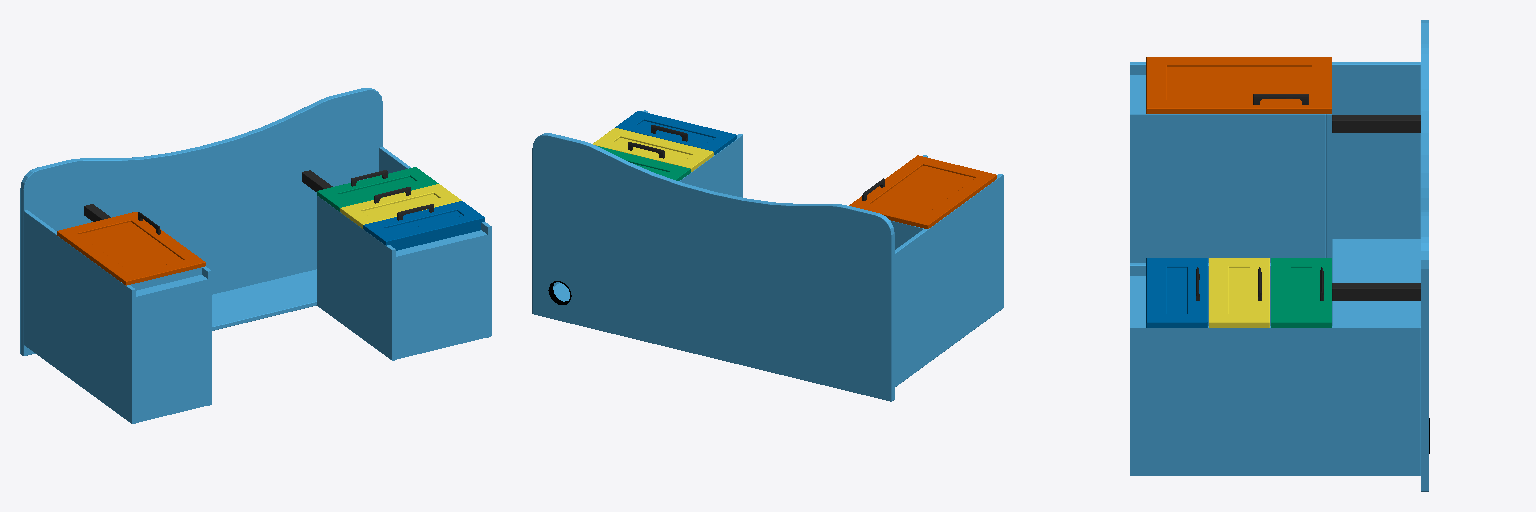
robot.urdf — s__1222:
<robot name="s__1222">


	<link name="0:virtual">
		<visual>
			<origin xyz="0.0 0.0 0.0" rpy="0 0 0"/>
			<geometry>
				<cylinder length="0" radius="0"/>
			</geometry>
		</visual>
	</link>


	<link name="1:static">
		<visual>
			<origin xyz="-0.0 -0.0 -0.0" rpy="0 0 0"/>
			<geometry>
				<mesh filename="../raw_data/s__1222/part_meshes/1.dae" />
			</geometry>
		</visual>
	</link>


	<link name="2:drawer 1">
		<visual>
			<origin xyz="-0.521000012755394 -0.44425299763679504 0.08452750742435455" rpy="0 0 0"/>
			<geometry>
				<mesh filename="../raw_data/s__1222/part_meshes/2.dae" />
			</geometry>
		</visual>
	</link>


	<link name="3:drawer 2">
		<visual>
			<origin xyz="-0.521000012755394 -0.28316449373960495 0.08452750742435455" rpy="0 0 0"/>
			<geometry>
				<mesh filename="../raw_data/s__1222/part_meshes/3.dae" />
			</geometry>
		</visual>
	</link>


	<link name="4:drawer 3">
		<visual>
			<origin xyz="-0.521000012755394 -0.12207619845867157 0.08452750742435455" rpy="0 0 0"/>
			<geometry>
				<mesh filename="../raw_data/s__1222/part_meshes/4.dae" />
			</geometry>
		</visual>
	</link>


	<link name="5:cabinet door 1">
		<visual>
			<origin xyz="0.7200000286102295 -0.28316464461386204 -0.21668200194835663" rpy="0 0 0"/>
			<geometry>
				<mesh filename="../raw_data/s__1222/part_meshes/5.dae" />
			</geometry>
		</visual>
	</link>


	<joint name="0:virtual::1:static" type="fixed">
		<parent link="0:virtual"/>
		<child link="1:static"/>
		<origin xyz="0.0 0.0 0.0" rpy="0 0 0"/>
	</joint>


	<joint name="0:virtual::2:drawer 1_translation" type="prismatic">
		<parent link="0:virtual"/>
		<child link="2:drawer 1"/>
		<origin xyz="0.521000012755394 0.44425299763679504 -0.08452750742435455" rpy="0 0 0"/>
		<limit lower="-0.0001124999821186" upper="0.348887500017881" effort="10" velocity="3"/>
		<axis xyz="0.0 0.0 1.0"/>
	</joint>


	<joint name="0:virtual::3:drawer 2_translation" type="prismatic">
		<parent link="0:virtual"/>
		<child link="3:drawer 2"/>
		<origin xyz="0.521000012755394 0.28316449373960495 -0.08452750742435455" rpy="0 0 0"/>
		<limit lower="-0.0001124999821186" upper="0.348887500017881" effort="10" velocity="3"/>
		<axis xyz="0.0 0.0 1.0"/>
	</joint>


	<joint name="0:virtual::4:drawer 3_translation" type="prismatic">
		<parent link="0:virtual"/>
		<child link="4:drawer 3"/>
		<origin xyz="0.521000012755394 0.12207619845867157 -0.08452750742435455" rpy="0 0 0"/>
		<limit lower="-0.0001124999821186" upper="0.348887500017881" effort="10" velocity="3"/>
		<axis xyz="0.0 0.0 1.0"/>
	</joint>


	<joint name="0:virtual::5:cabinet door 1_rotation" type="revolute">
		<parent link="0:virtual"/>
		<child link="5:cabinet door 1"/>
		<origin xyz="-0.7200000286102295 0.28316464461386204 0.21668200194835663" rpy="0 0 0"/>
		<limit lower="-3.141592653589793" upper="0.0" effort="10" velocity="3"/>
		<axis xyz="0.0 1.0 0.0"/>
	</joint>


</robot>

--- Render facts (derived) ---
3 views of the same robot in one strip: view 1: azimuth 30°, elevation 25°; view 2: azimuth 150°, elevation 25°; view 3: azimuth 270°, elevation 25° (orthographic).
Robot: s__1222 — 6 links, 5 joints (1 revolute, 3 prismatic, 1 fixed); root link 0:virtual; default pose: all joints at 0.
Visible links, largest first — view 1: 1:static, 5:cabinet door 1, 4:drawer 3, 3:drawer 2, 2:drawer 1; view 2: 1:static, 5:cabinet door 1, 4:drawer 3, 3:drawer 2, 2:drawer 1; view 3: 1:static, 5:cabinet door 1, 4:drawer 3, 2:drawer 1, 3:drawer 2.
Boxes of the visible links, x1,y1,x2,y2 form: 1:static: (20, 88, 491, 423); 5:cabinet door 1: (57, 212, 205, 285); 4:drawer 3: (363, 201, 484, 250); 3:drawer 2: (340, 184, 461, 228); 2:drawer 1: (317, 167, 438, 211); 1:static: (532, 110, 1003, 401); 5:cabinet door 1: (849, 155, 996, 228); 4:drawer 3: (615, 111, 736, 154); 3:drawer 2: (593, 128, 713, 171); 2:drawer 1: (598, 146, 690, 180); 1:static: (1130, 20, 1429, 491); 5:cabinet door 1: (1146, 57, 1331, 113); 4:drawer 3: (1146, 258, 1207, 327); 2:drawer 1: (1271, 258, 1331, 327); 3:drawer 2: (1209, 258, 1269, 327).
Bounding box of the posed robot: 1.44 × 0.7775 × 0.7 m (x, y, z).
5 mesh visuals loaded from 5 distinct referenced files (5 Collada DAE).
